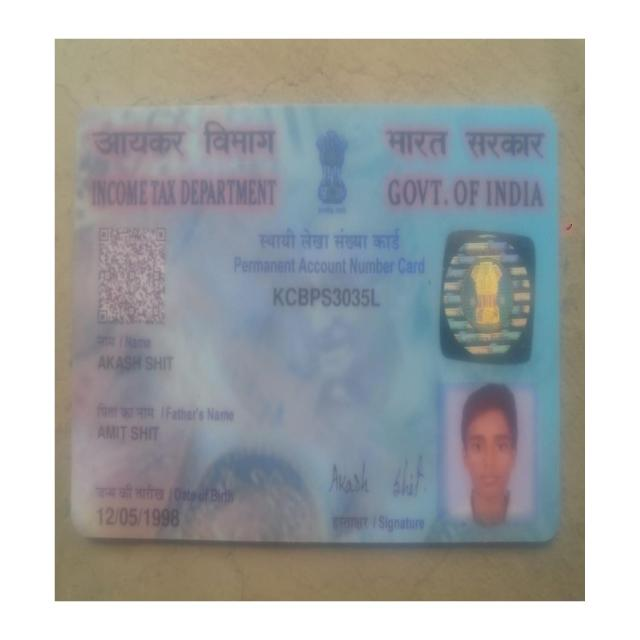pan_card: (81, 112, 556, 536)
